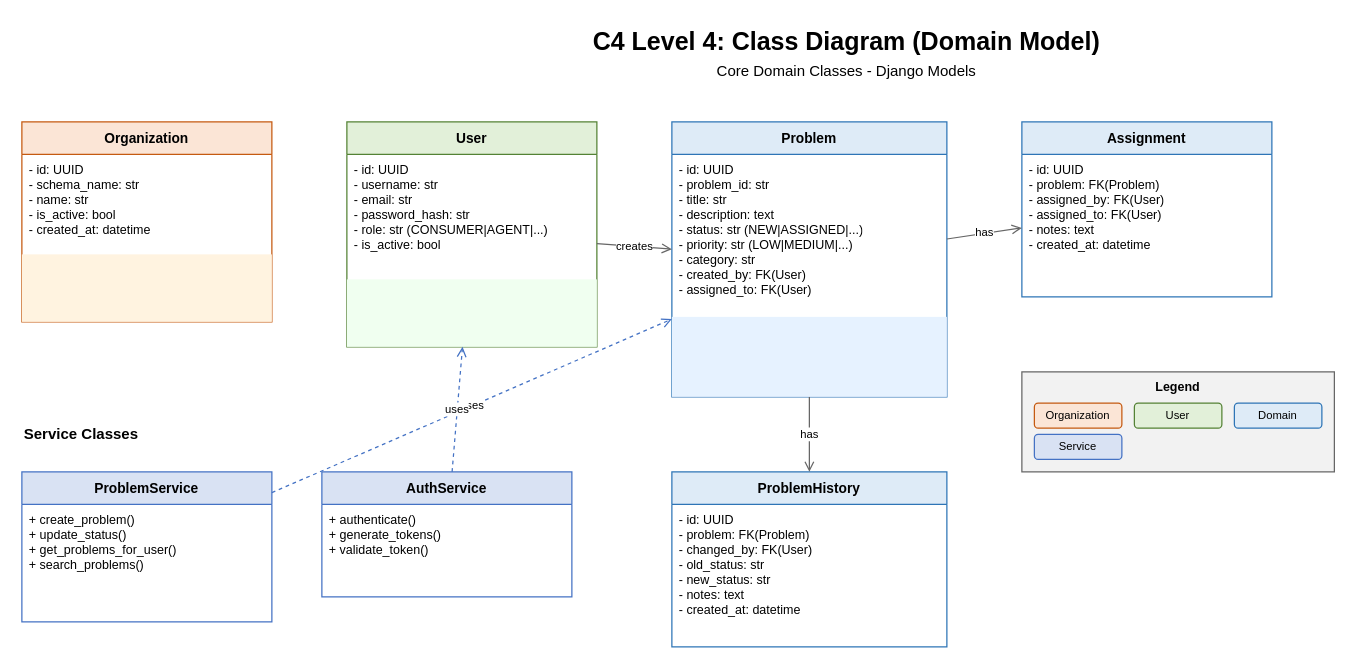
The diagram is 1356 pixels wide and 671 high, and some of its shapes have lost their labels. Here are the shapes that lost their labels. From the top down, the centre of each, then its label:
the point at 146,287: + create_schema() + get_configuration()
the point at 471,312: + check_password() + has_permission()
the point at 808,356: + update_status() + assign_to() + generate_problem_id()
